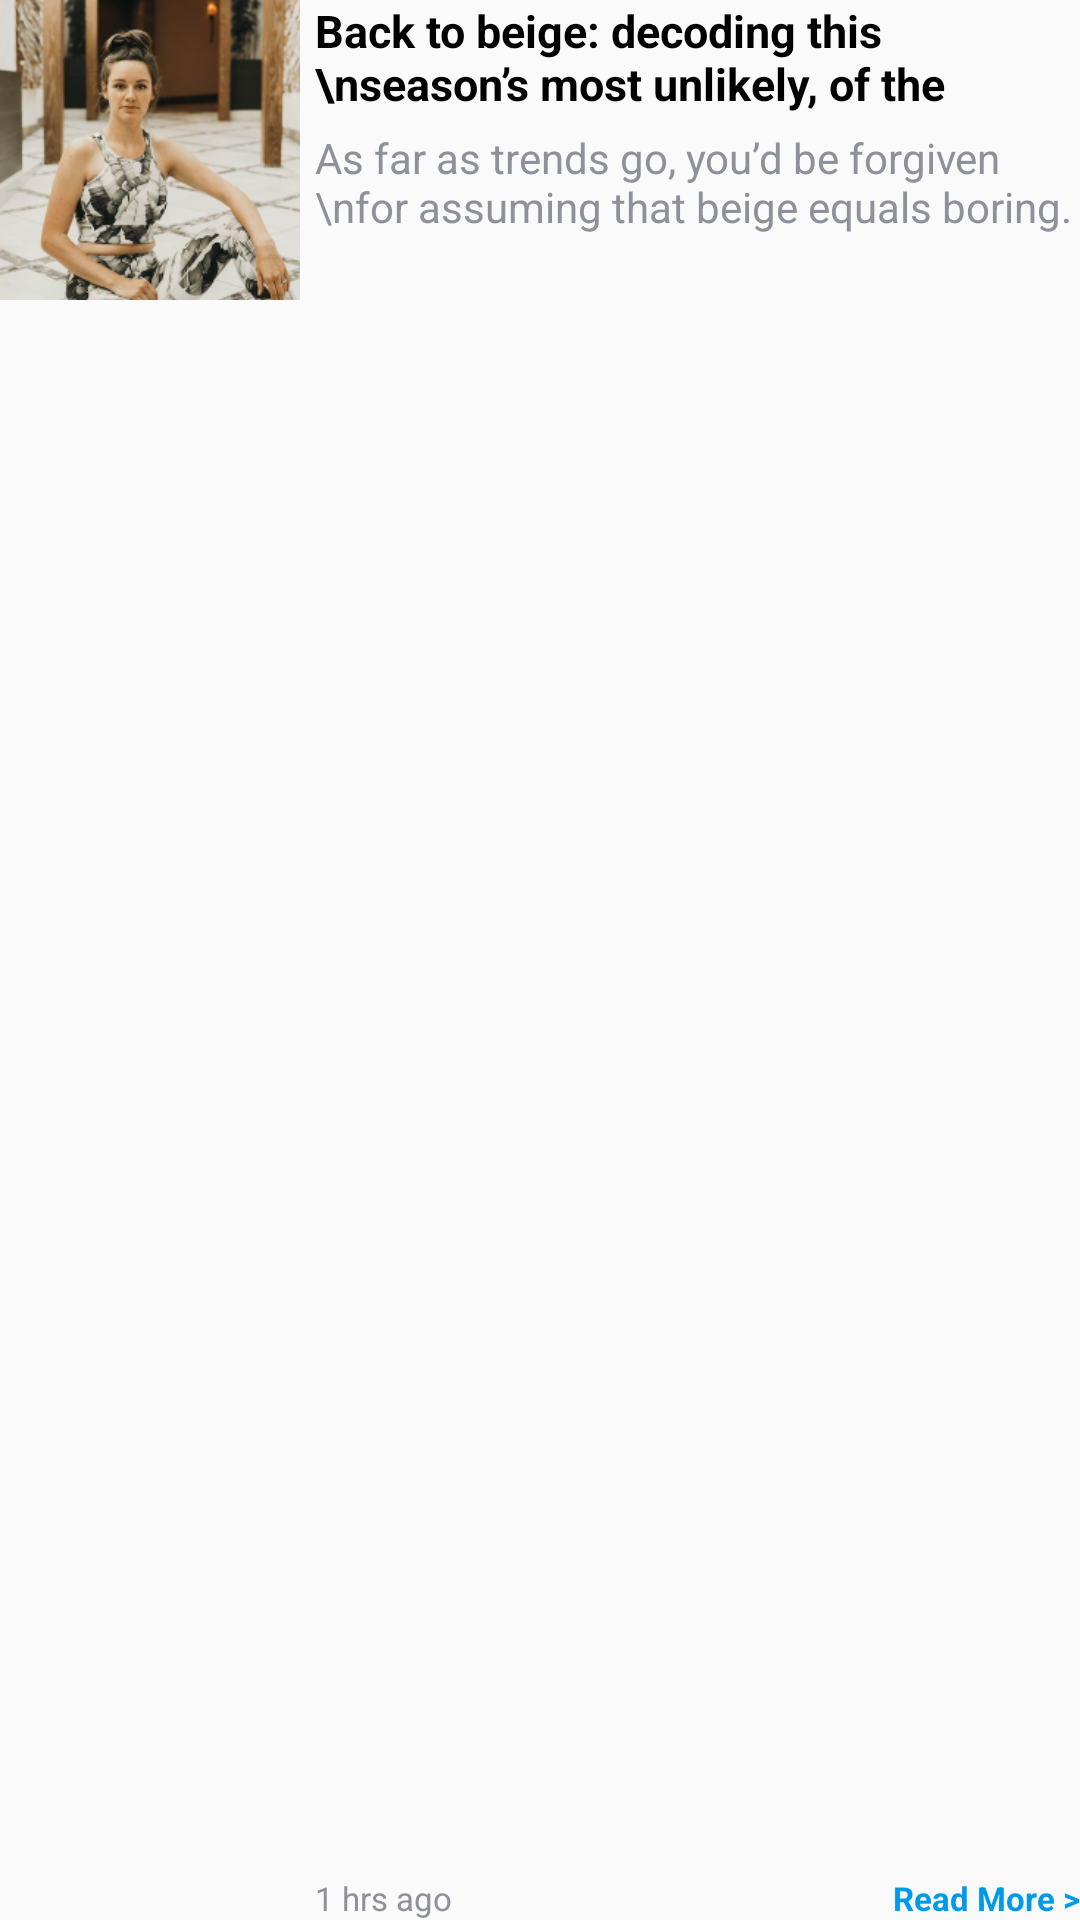

Named icons in this screenshot (1080*1920) and their centers, (x=x, y=y):
thumbnail: (x=150, y=150)
